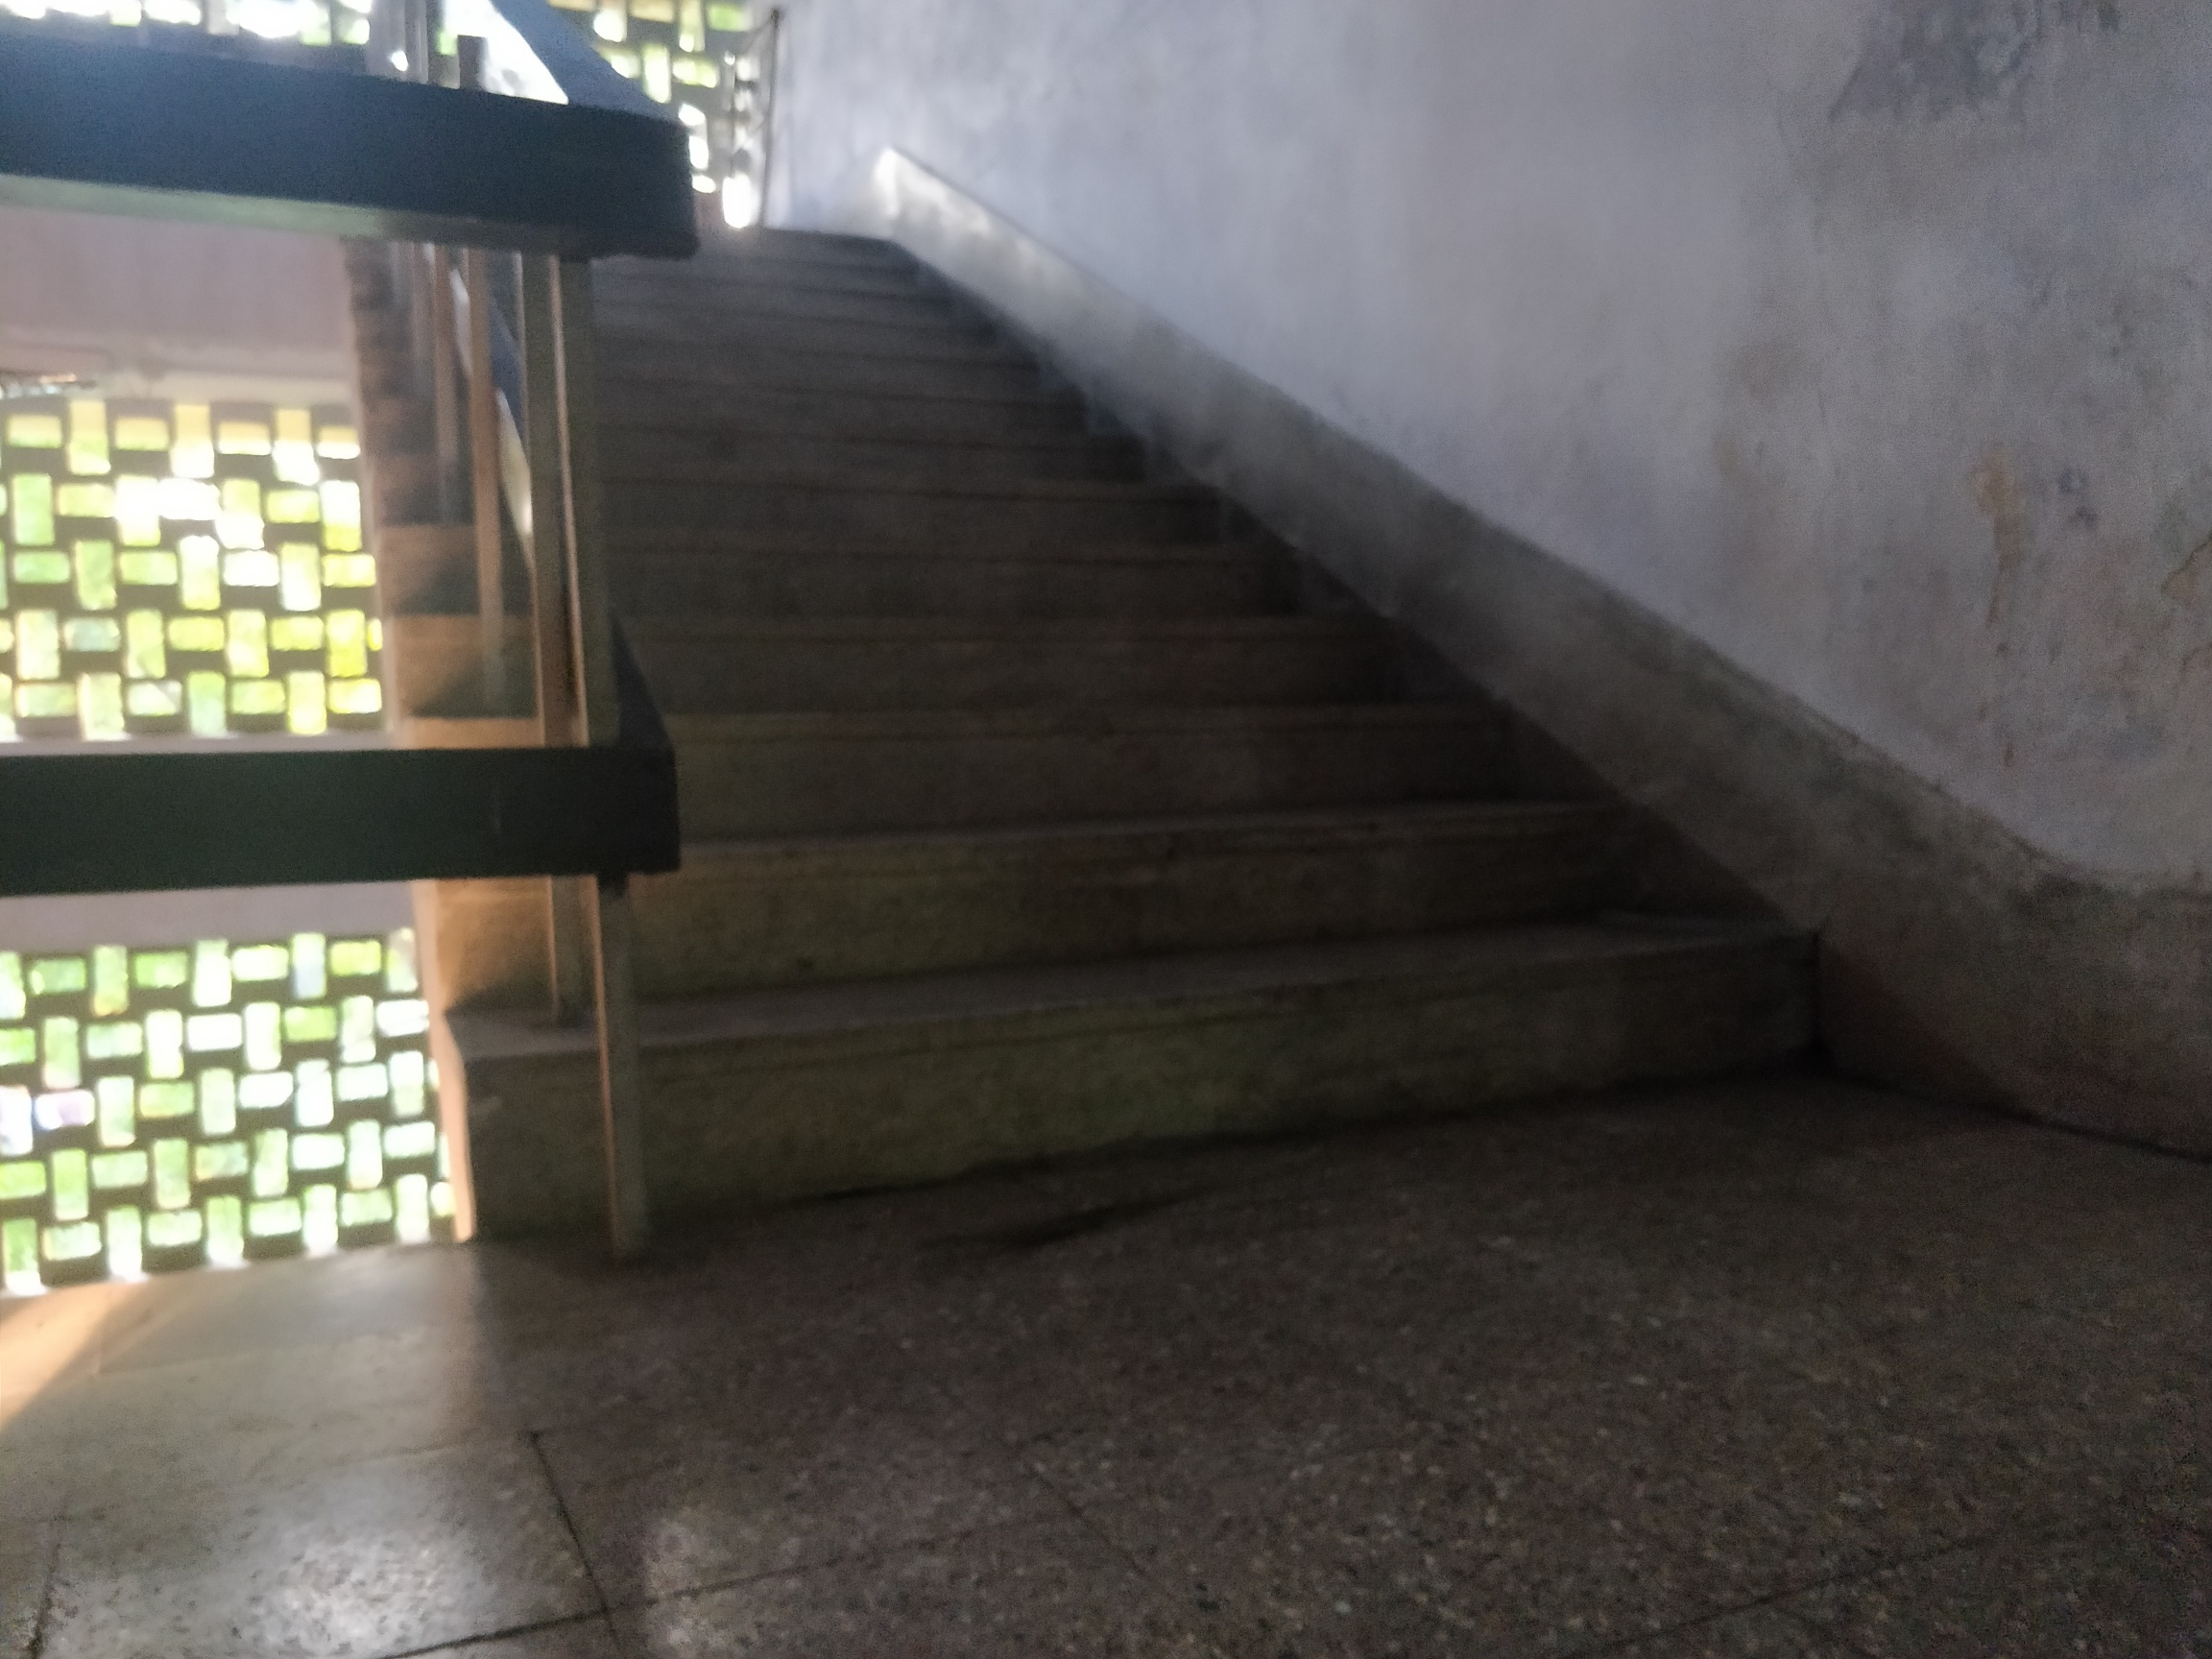stairs_up: (331, 179, 1862, 1194)
